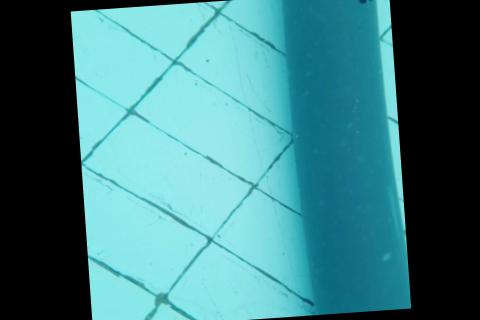kebocoran: (349, 0, 374, 6)
